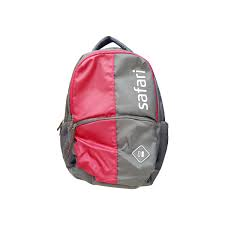backpack: (56, 35, 168, 189)
